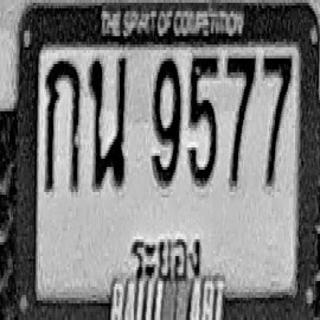A01: (44, 57, 80, 190)
A25: (89, 54, 126, 188)
N05: (188, 53, 218, 184)
N07: (226, 54, 255, 185), (263, 54, 292, 185)
N09: (152, 56, 180, 184)
P53: (125, 220, 206, 286)
